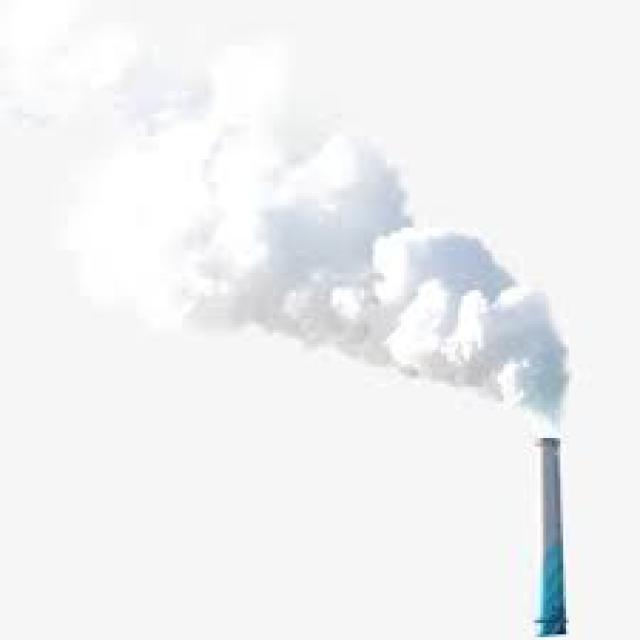Smoke: (16, 2, 569, 424)
